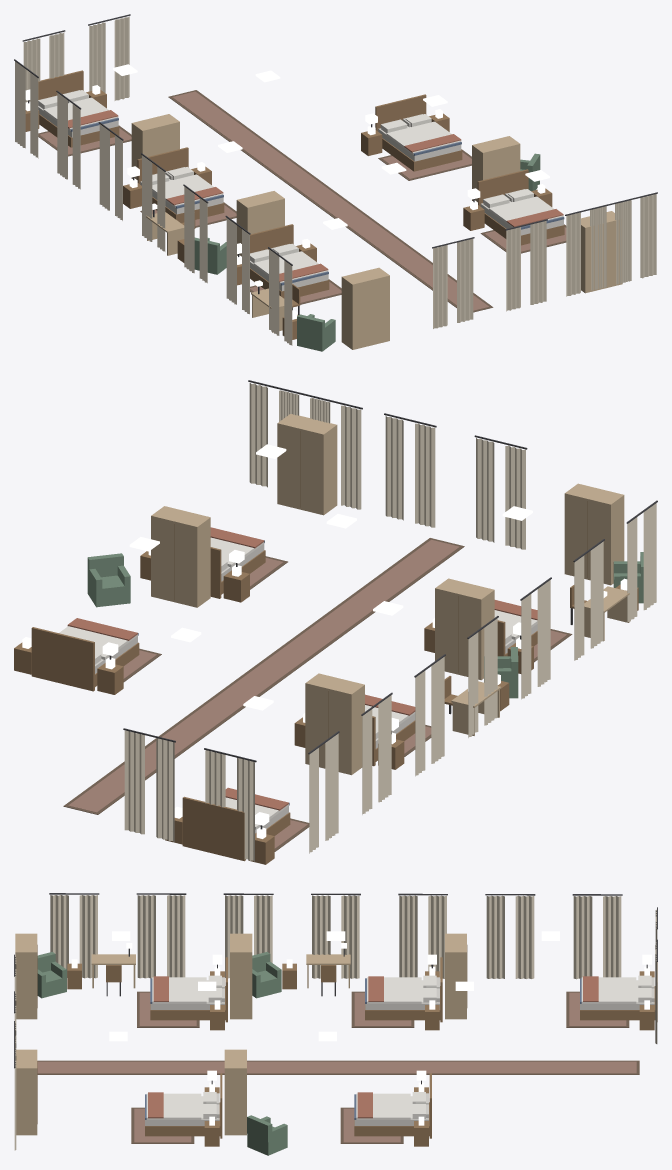
Rendered from fine-s2.glb.
The picture shows the model from 3 angles, top to bottom: view 1: azimuth 30°, elevation 25°; view 2: azimuth 150°, elevation 25°; view 3: azimuth 270°, elevation 25°; orthographic projection. The views are drawn at different scales.
Visible parts, largest first — view 1: soft-s2, dresser.009, bed-frame.005, dresser.006, bed-frame.006, bed-frame.007, bed-frame.009, dresser.005, dresser.007, dresser.008, bed-frame.008, lounge-chair.005 (+5 smaller); view 2: soft-s2, dresser.006, dresser.005, dresser.007, dresser.009, dresser.008, bed-frame.005, bed-frame.007, lounge-chair.003, bed-frame.006, writing-desk.003, writing-desk.002 (+3 smaller); view 3: soft-s2, dresser.005, dresser.008, dresser.009, dresser.006, dresser.007, bed-frame.008, bed-frame.006, bed-frame.009, bed-frame.005, bed-frame.007, lounge-chair.003 (+11 smaller).
Part boxes in pixels (<box>): soft-s2: <box>14,14,657,345</box>; dresser.009: <box>341,267,389,349</box>; bed-frame.005: <box>375,94,462,171</box>; dresser.006: <box>581,211,622,293</box>; bed-frame.006: <box>477,169,564,245</box>; bed-frame.007: <box>38,70,119,147</box>; bed-frame.009: <box>250,224,329,298</box>; dresser.005: <box>472,136,520,201</box>; dresser.007: <box>131,114,179,179</box>; dresser.008: <box>236,191,284,256</box>; bed-frame.008: <box>137,147,224,222</box>; lounge-chair.005: <box>297,314,335,351</box>; soft-s2: <box>59,380,657,861</box>; dresser.006: <box>277,414,337,515</box>; dresser.005: <box>151,506,210,607</box>; dresser.007: <box>305,673,364,775</box>; dresser.009: <box>564,483,624,585</box>; dresser.008: <box>435,578,494,680</box>; bed-frame.005: <box>31,627,139,691</box>; bed-frame.007: <box>182,796,290,861</box>; lounge-chair.003: <box>87,553,130,607</box>; bed-frame.006: <box>210,540,265,598</box>; writing-desk.003: <box>584,586,629,641</box>; writing-desk.002: <box>451,681,501,735</box>; soft-s2: <box>14,893,657,1150</box>; dresser.005: <box>224,1049,246,1135</box>; dresser.008: <box>230,933,252,1019</box>; dresser.009: <box>15,933,37,1019</box>; dresser.006: <box>16,1049,37,1135</box>; dresser.007: <box>445,933,467,1019</box>; bed-frame.008: <box>365,957,442,1022</box>; bed-frame.006: <box>145,1073,222,1138</box>; bed-frame.009: <box>150,957,227,1022</box>; bed-frame.005: <box>354,1073,431,1138</box>; bed-frame.007: <box>580,962,657,1021</box>; lounge-chair.003: <box>247,1115,287,1155</box>.
Size of the model in its own units: 11.36 by 2.56 by 17.44.
